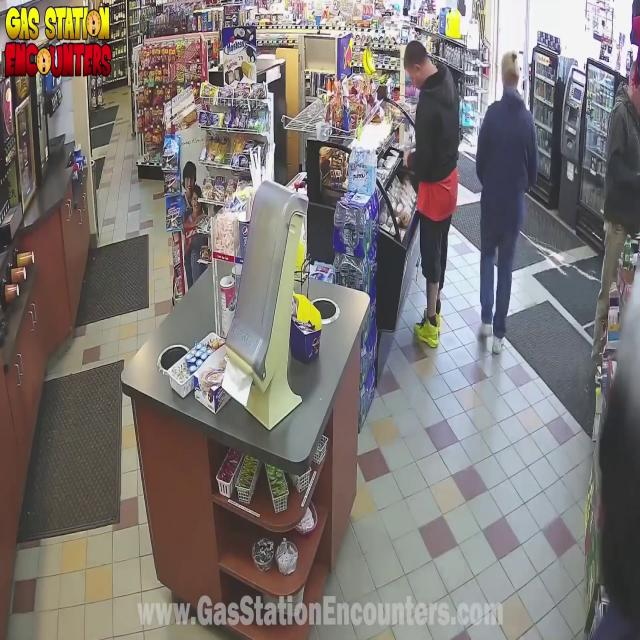Product: (398, 142, 416, 174)
normal: (467, 47, 544, 383), (601, 42, 640, 255)
shoplifting: (386, 36, 470, 374)
